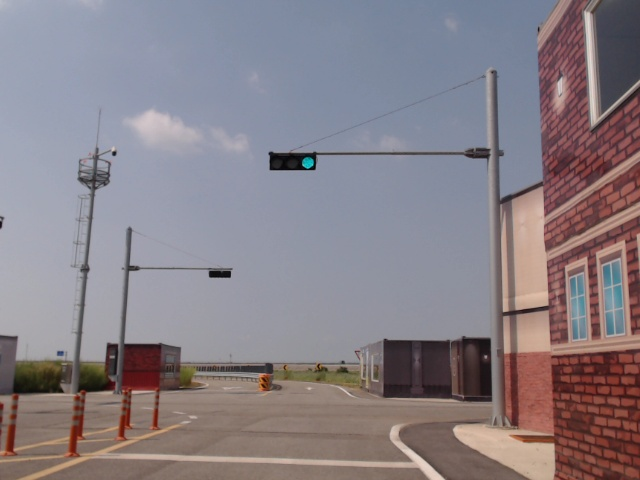green_3: (269, 154, 316, 171)
